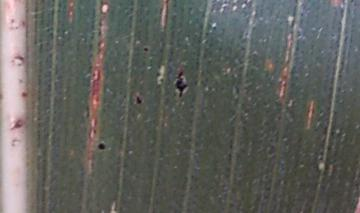tarspot: (172, 62, 190, 99), (133, 92, 145, 107), (96, 140, 108, 153), (140, 44, 151, 54)
